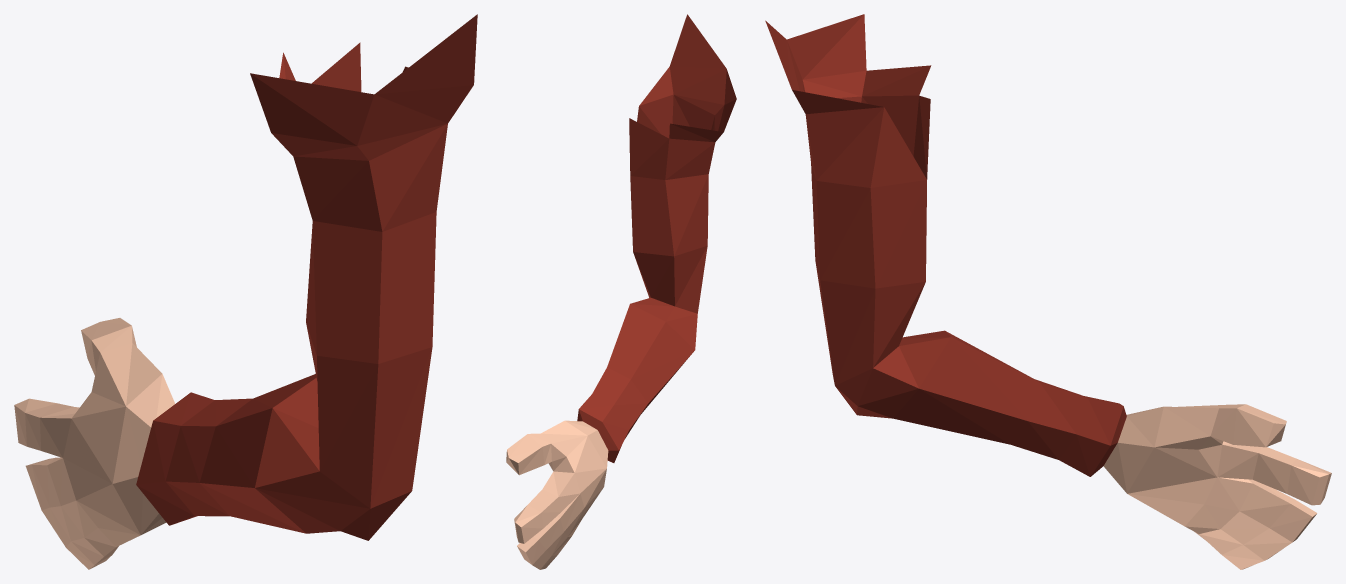
The model's file is Son_01_ArmL_67.obj.
The picture shows the model from 3 angles, left to right: view 1: azimuth 30°, elevation 25°; view 2: azimuth 150°, elevation 25°; view 3: azimuth 270°, elevation 25°; orthographic projection. The views are drawn at different scales.
Parts seen in each view (by area): view 1: Son_01_ArmL_67; view 2: Son_01_ArmL_67; view 3: Son_01_ArmL_67.
Part boxes in pixels (x1=…): Son_01_ArmL_67: x1=14, y1=14, x2=477, y2=569; Son_01_ArmL_67: x1=506, y1=14, x2=736, y2=569; Son_01_ArmL_67: x1=765, y1=14, x2=1331, y2=569.
Size of the model in its own units: 0.1573 by 0.6627 by 0.5956.
1 material, 1 textured.
